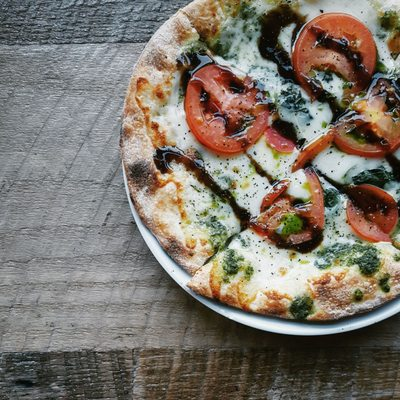curry: (1, 1, 398, 400)
sandwich: (118, 4, 400, 322)
